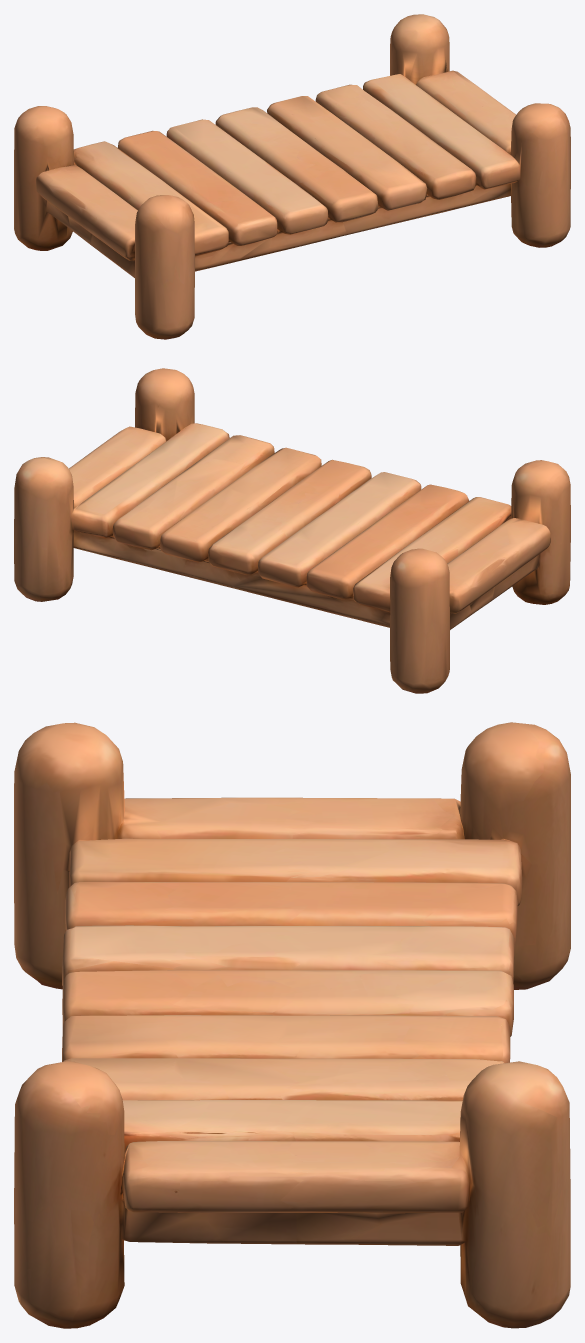
The model's file is jetty.glb.
3 renders of one model, top to bottom at view 1: azimuth 30°, elevation 25°; view 2: azimuth 150°, elevation 25°; view 3: azimuth 270°, elevation 25°, orthographic. The views are drawn at different scales.
Visible parts, largest first — view 1: tripo_node_d2708cb4-1714-4802-b4f6-f89a29f34b61; view 2: tripo_node_d2708cb4-1714-4802-b4f6-f89a29f34b61; view 3: tripo_node_d2708cb4-1714-4802-b4f6-f89a29f34b61.
Boxes of the visible parts, x1,y1,x2,y2 form: tripo_node_d2708cb4-1714-4802-b4f6-f89a29f34b61: (14,14,570,339); tripo_node_d2708cb4-1714-4802-b4f6-f89a29f34b61: (14,368,570,693); tripo_node_d2708cb4-1714-4802-b4f6-f89a29f34b61: (14,722,570,1328).
Bounding box in the file's own units: 0.9998 × 0.2971 × 0.6111.
Materials: 1 (1 with a texture image).
